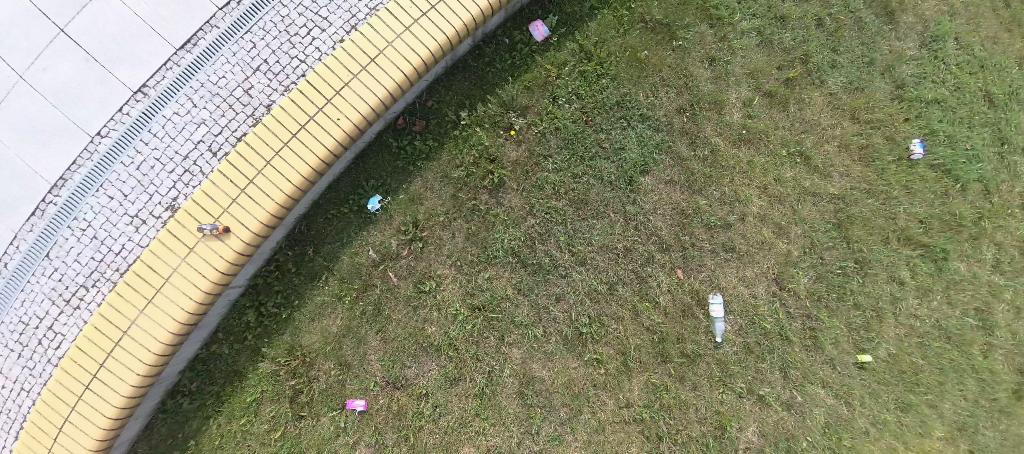garbage: (706, 288, 727, 350), (529, 18, 552, 44), (908, 135, 926, 162), (345, 395, 368, 414), (367, 192, 384, 214)
